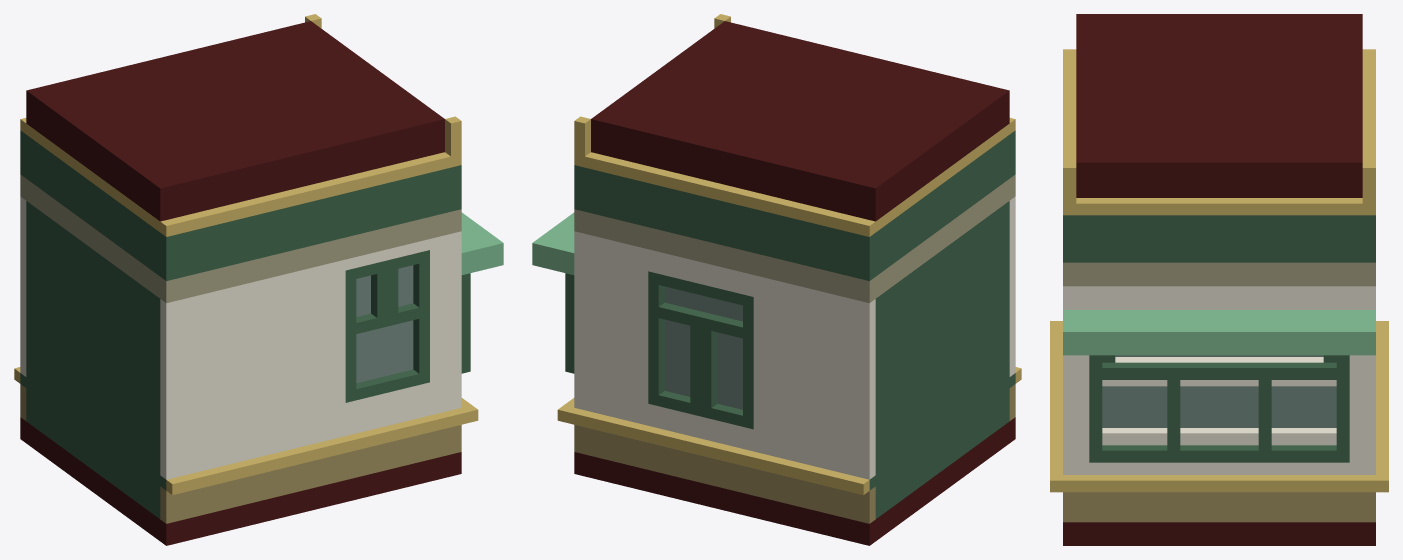
File: tile_2_left_nr.obj
3 renders of one model, left to right at view 1: azimuth 30°, elevation 25°; view 2: azimuth 150°, elevation 25°; view 3: azimuth 270°, elevation 25°, orthographic. The views are drawn at different scales.
Size of the model in its own units: 3.2 by 3.2 by 2.6.
